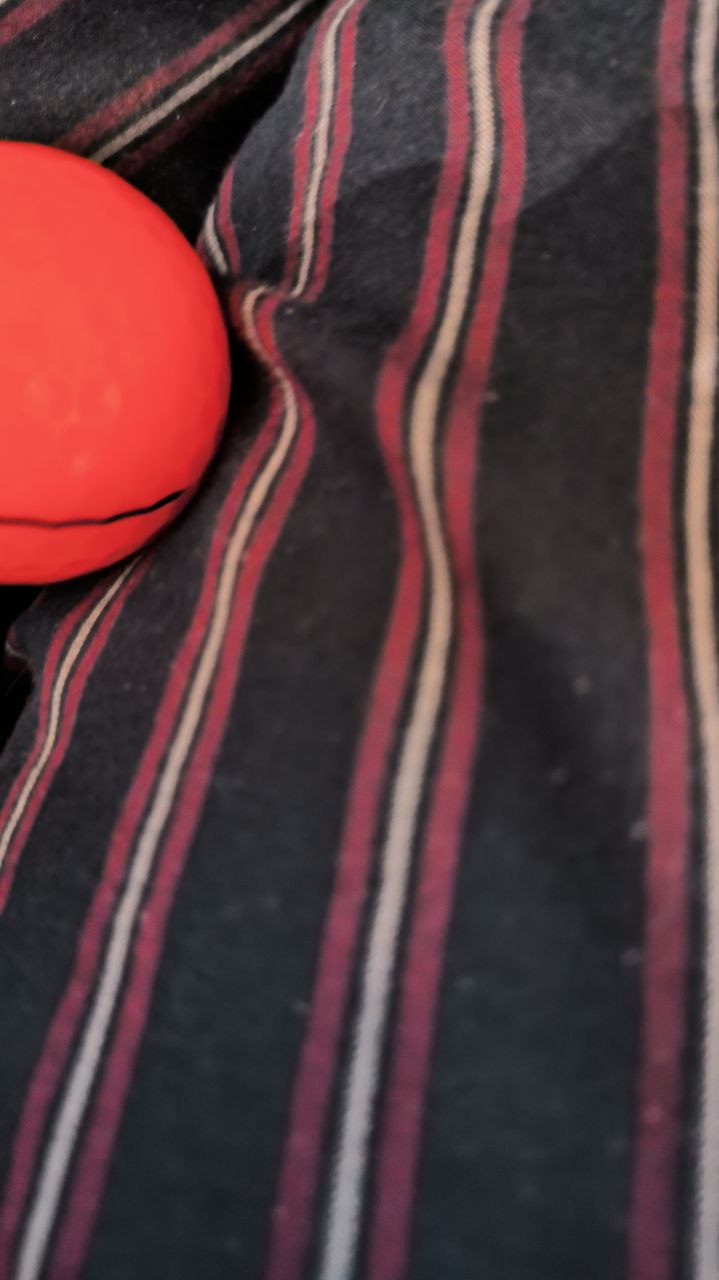orange_ball: (0, 139, 229, 585)
